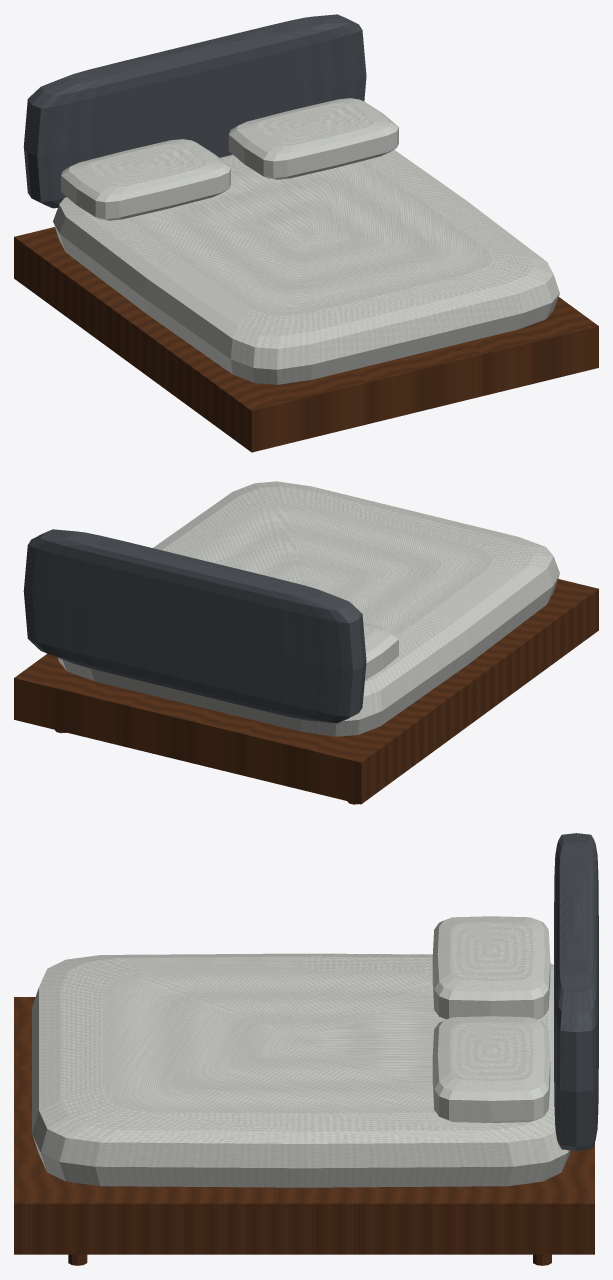
File: bed-160_lod2.glb
3 views of the same model, one above another, from view 1: azimuth 30°, elevation 25°; view 2: azimuth 150°, elevation 25°; view 3: azimuth 270°, elevation 25° (orthographic). The views are drawn at different scales.
Visible parts, largest first — view 1: mattress, frame, headboard, pillow_2, pillow_1; view 2: mattress, headboard, frame, pillow_1; view 3: mattress, frame, headboard, pillow_2, pillow_1.
Part boxes in pixels (x1,y1,x2,y2): mattress: (53, 149, 559, 384); frame: (14, 227, 598, 452); headboard: (23, 14, 366, 208); pillow_2: (228, 98, 398, 179); pillow_1: (61, 139, 230, 220); mattress: (58, 481, 559, 736); headboard: (23, 529, 366, 723); frame: (14, 579, 598, 804); pillow_1: (363, 622, 398, 680); mattress: (32, 953, 570, 1187); frame: (14, 997, 594, 1254); headboard: (554, 833, 598, 1150); pillow_2: (432, 1016, 550, 1122); pillow_1: (432, 916, 550, 1019).
Bounding box in the file's own units: 1.8 × 1.05 × 2.15.
3 materials, 3 textured.
